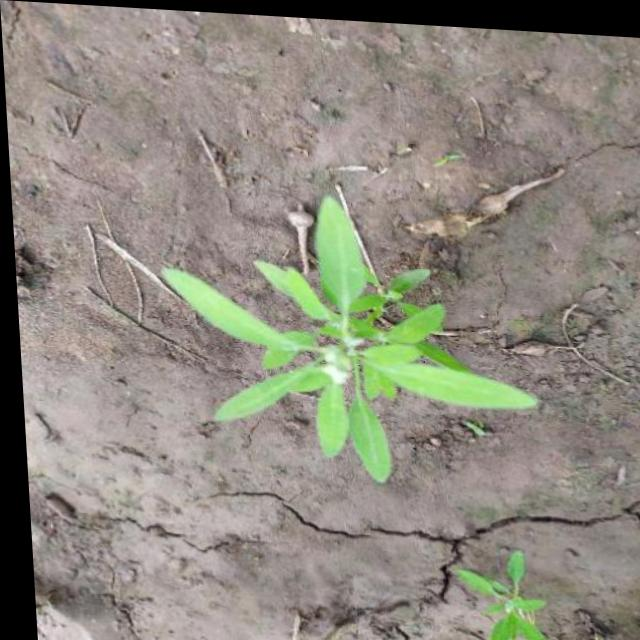weed: (134, 176, 557, 487)
